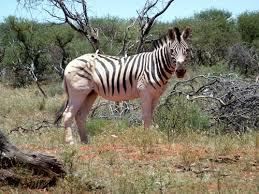Non_Gorille: (44, 14, 208, 152)
